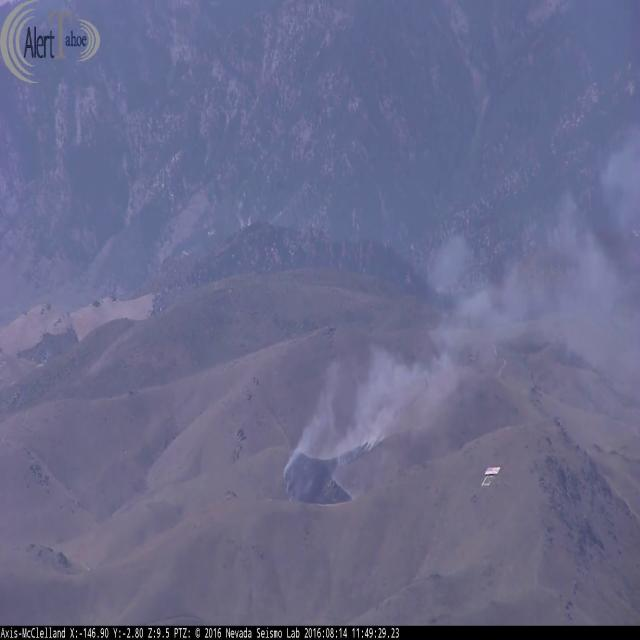smoke: (286, 227, 511, 503), (511, 128, 640, 402)
